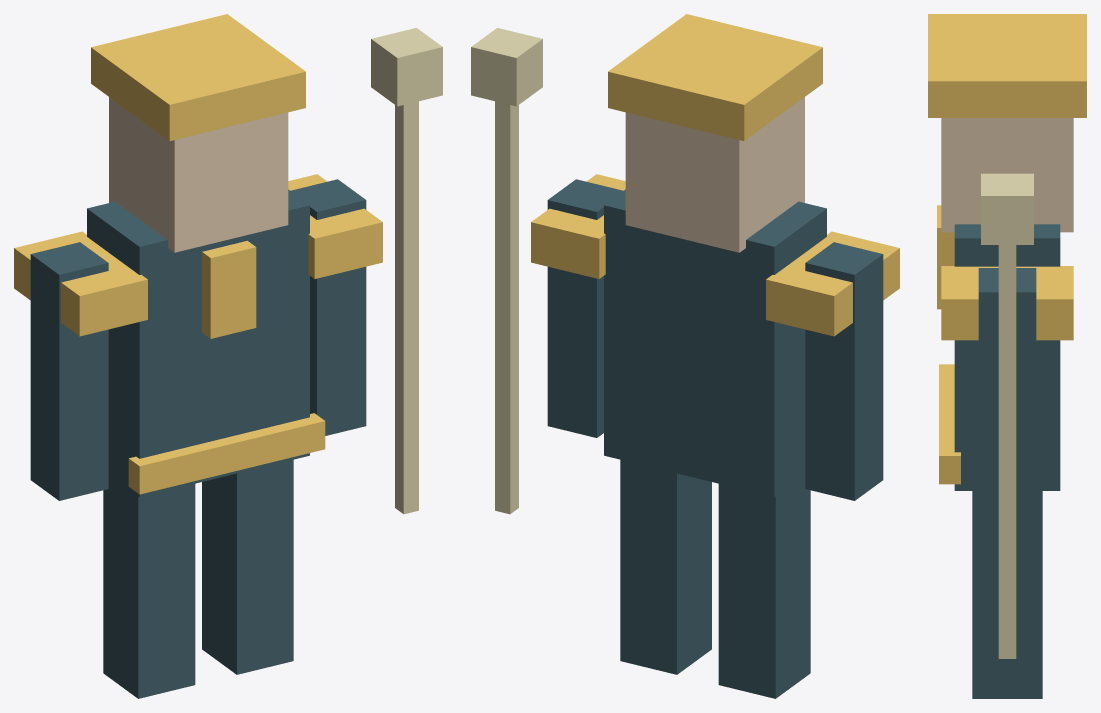
File: 13_keir_ashvein_watcher_of_evolution.glb
3 renders of one model, left to right at view 1: azimuth 30°, elevation 25°; view 2: azimuth 150°, elevation 25°; view 3: azimuth 270°, elevation 25°, orthographic.
Parts seen in each view (by area): view 1: Keir Ashvein, Watcher of Evolution; view 2: Keir Ashvein, Watcher of Evolution; view 3: Keir Ashvein, Watcher of Evolution.
Part boxes in pixels (bbox=[...]): Keir Ashvein, Watcher of Evolution: bbox=[14, 14, 442, 698]; Keir Ashvein, Watcher of Evolution: bbox=[471, 14, 899, 698]; Keir Ashvein, Watcher of Evolution: bbox=[928, 14, 1086, 698].
Bounding box in the file's own units: 0.9712 × 1.47 × 0.3445.
